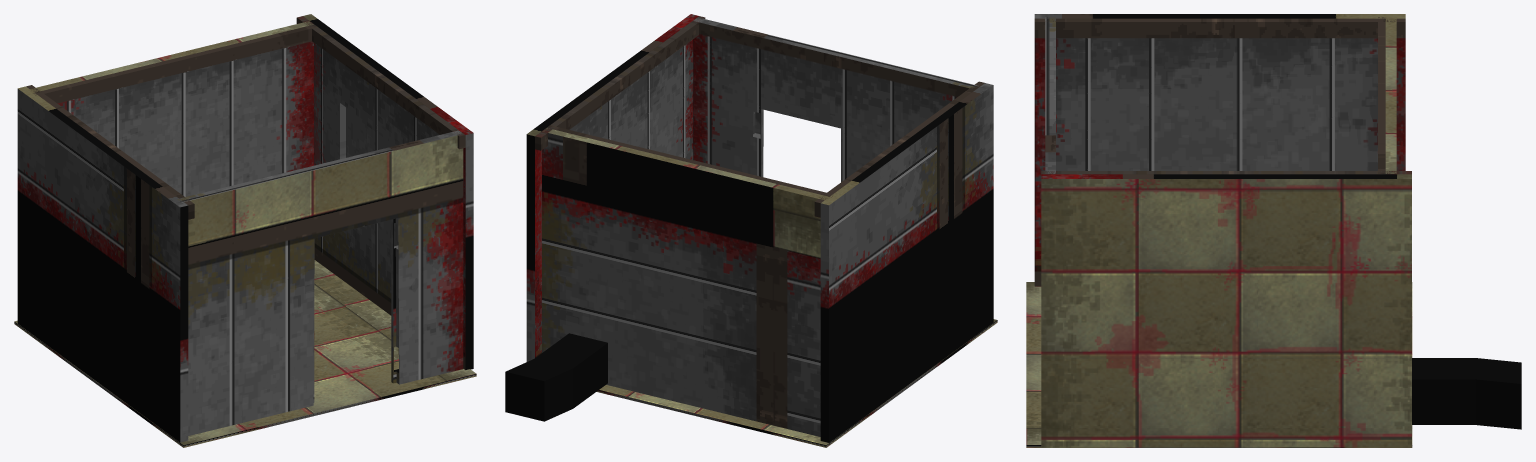
File: Room.FBX
3 renders of one model, left to right at view 1: azimuth 30°, elevation 25°; view 2: azimuth 150°, elevation 25°; view 3: azimuth 270°, elevation 25°, orthographic. The views are drawn at different scales.
Visible parts, largest first — view 1: Room; view 2: Room; view 3: Room.
Part boxes in pixels (x1,y1,x2,y2): Room: (14, 14, 476, 447); Room: (505, 14, 997, 447); Room: (1026, 14, 1521, 447).
Bounding box in the file's own units: 52.68 × 40.33 × 66.76.
1 material, 1 textured.
